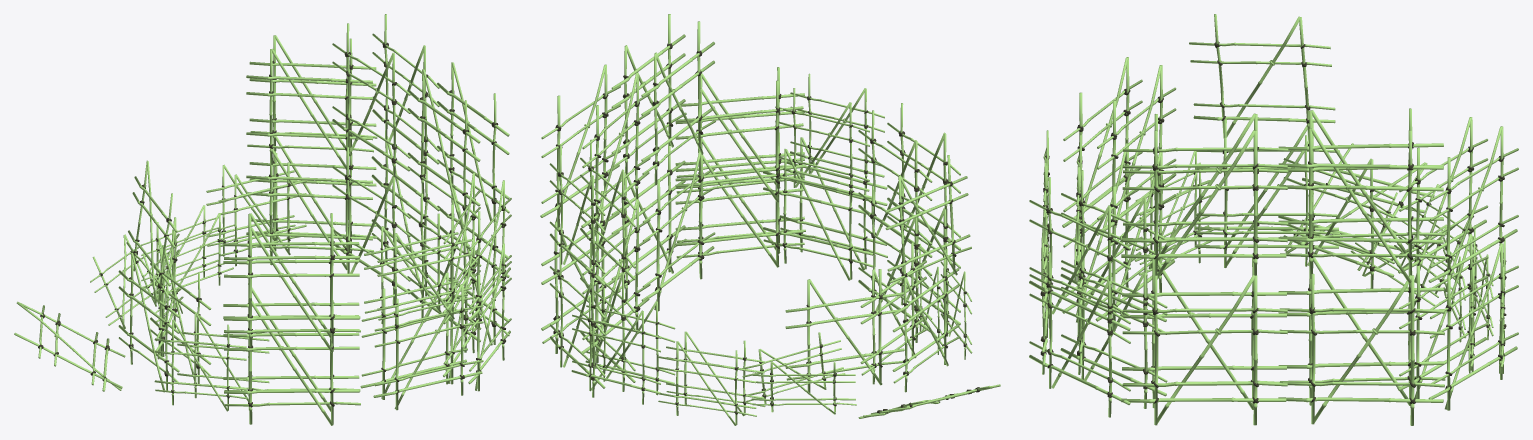
Rendered from échafaudage bambou grand.fbx.
3 views of the same model, side by side, from view 1: azimuth 30°, elevation 25°; view 2: azimuth 150°, elevation 25°; view 3: azimuth 270°, elevation 25° (orthographic). The views are drawn at different scales.
Parts seen in each view (by area): view 1: MSH_echafaudage_bambou_01__2_, MSH_echafaudage_bambou_01, MSH_echafaudage_bambou_01__30_, MSH_echafaudage_bambou_01__12_, MSH_echafaudage_bambou_01__29_, MSH_echafaudage_bambou_01__8_, MSH_echafaudage_bambou_01__24_, MSH_echafaudage_bambou_01__6_, MSH_echafaudage_bambou_01__2__1, MSH_echafaudage_bambou_01__1_, MSH_echafaudage_bambou_01__23_, MSH_echafaudage_bambou_01__13_ (+24 smaller); view 2: MSH_echafaudage_bambou_01__17_, MSH_echafaudage_bambou_01__31_, MSH_echafaudage_bambou_01__8_, MSH_echafaudage_bambou_01__13_, MSH_echafaudage_bambou_01__9_, MSH_echafaudage_bambou_01__11_, MSH_echafaudage_bambou_01__4__1, MSH_echafaudage_bambou_01__6_, MSH_echafaudage_bambou_01__26_, MSH_echafaudage_bambou_01__2__1, MSH_echafaudage_bambou_01__25_, MSH_echafaudage_bambou_01__12_ (+25 smaller); view 3: MSH_echafaudage_bambou_01__4__1, MSH_echafaudage_bambou_01__3__1, MSH_echafaudage_bambou_01__5__1, MSH_echafaudage_bambou_01__2__1, MSH_echafaudage_bambou_01__7_, MSH_echafaudage_bambou_01__9_, MSH_echafaudage_bambou_01__26_, MSH_echafaudage_bambou_01__6_, MSH_echafaudage_bambou_01__8_, MSH_echafaudage_bambou_01__29_, MSH_echafaudage_bambou_01__10_, MSH_echafaudage_bambou_01__23_ (+25 smaller).
Boxes of the visible parts, bbox=[...] form: MSH_echafaudage_bambou_01__2_: bbox=[224, 300, 360, 425]; MSH_echafaudage_bambou_01: bbox=[224, 227, 360, 352]; MSH_echafaudage_bambou_01__30_: bbox=[246, 48, 373, 169]; MSH_echafaudage_bambou_01__12_: bbox=[373, 284, 483, 410]; MSH_echafaudage_bambou_01__29_: bbox=[249, 35, 377, 156]; MSH_echafaudage_bambou_01__8_: bbox=[407, 69, 480, 229]; MSH_echafaudage_bambou_01__24_: bbox=[246, 149, 373, 270]; MSH_echafaudage_bambou_01__6_: bbox=[332, 23, 410, 181]; MSH_echafaudage_bambou_01__2__1: bbox=[437, 62, 509, 221]; MSH_echafaudage_bambou_01__1_: bbox=[223, 213, 360, 338]; MSH_echafaudage_bambou_01__23_: bbox=[249, 136, 377, 253]; MSH_echafaudage_bambou_01__13_: bbox=[360, 272, 467, 399]; MSH_echafaudage_bambou_01__17_: bbox=[785, 269, 904, 394]; MSH_echafaudage_bambou_01__31_: bbox=[675, 80, 804, 204]; MSH_echafaudage_bambou_01__8_: bbox=[641, 21, 715, 185]; MSH_echafaudage_bambou_01__13_: bbox=[763, 149, 873, 280]; MSH_echafaudage_bambou_01__9_: bbox=[641, 147, 715, 311]; MSH_echafaudage_bambou_01__11_: bbox=[675, 146, 804, 273]; MSH_echafaudage_bambou_01__4__1: bbox=[540, 64, 620, 227]; MSH_echafaudage_bambou_01__6_: bbox=[581, 72, 650, 236]; MSH_echafaudage_bambou_01__26_: bbox=[885, 155, 971, 294]; MSH_echafaudage_bambou_01__2__1: bbox=[611, 14, 686, 177]; MSH_echafaudage_bambou_01__25_: bbox=[675, 67, 805, 188]; MSH_echafaudage_bambou_01__12_: bbox=[779, 137, 887, 269]; MSH_echafaudage_bambou_01__4__1: bbox=[1278, 128, 1444, 283]; MSH_echafaudage_bambou_01__3__1: bbox=[1121, 274, 1287, 425]; MSH_echafaudage_bambou_01__5__1: bbox=[1278, 273, 1444, 425]; MSH_echafaudage_bambou_01__2__1: bbox=[1121, 130, 1287, 280]; MSH_echafaudage_bambou_01__7_: bbox=[1278, 257, 1445, 405]; MSH_echafaudage_bambou_01__9_: bbox=[1122, 257, 1287, 409]; MSH_echafaudage_bambou_01__26_: bbox=[1189, 14, 1335, 140]; MSH_echafaudage_bambou_01__6_: bbox=[1278, 108, 1445, 260]; MSH_echafaudage_bambou_01__8_: bbox=[1121, 113, 1288, 263]; MSH_echafaudage_bambou_01__29_: bbox=[1428, 126, 1518, 292]; MSH_echafaudage_bambou_01__10_: bbox=[1029, 251, 1130, 417]; MSH_echafaudage_bambou_01__23_: bbox=[1428, 244, 1518, 410].
Size of the model in its own units: 34.42 by 21.32 by 30.92.
